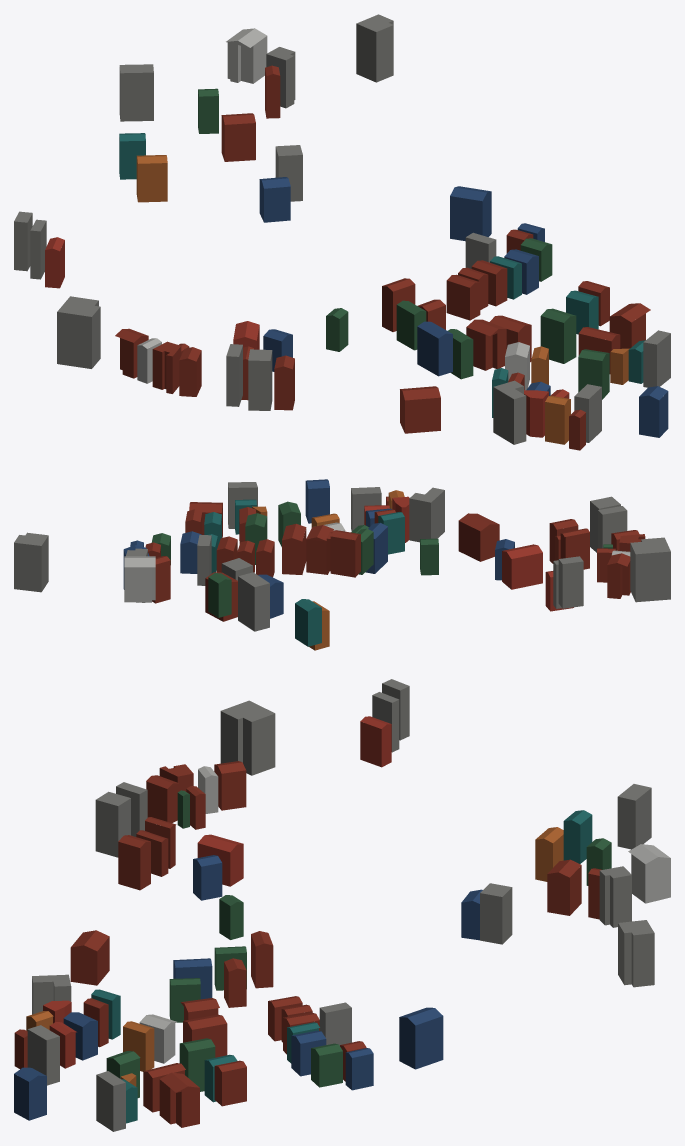
The model's file is near-17-109442-59483.b3c0ee4e.glb.
3 renders of one model, top to bottom at view 1: azimuth 30°, elevation 25°; view 2: azimuth 150°, elevation 25°; view 3: azimuth 270°, elevation 25°, orthographic. The views are drawn at different scales.
Size of the model in its own units: 301 by 105 by 297.
